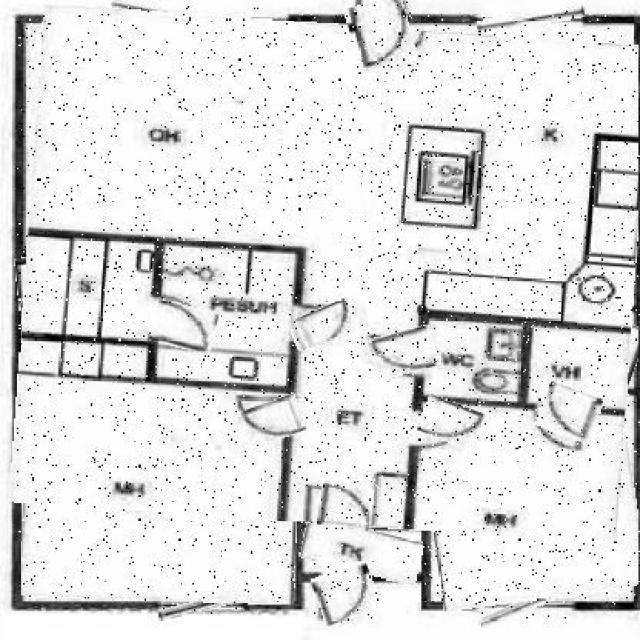door: (17, 14, 640, 532), (22, 392, 298, 603), (421, 383, 640, 604), (18, 248, 162, 394), (156, 249, 298, 397), (527, 301, 640, 395), (431, 309, 526, 391), (300, 523, 422, 579)
window: (348, 0, 412, 69), (314, 565, 378, 623), (538, 385, 600, 440), (152, 303, 217, 351), (372, 328, 436, 375), (289, 302, 357, 346), (242, 397, 304, 445), (420, 399, 482, 446), (318, 485, 374, 529)
zone: (110, 6, 288, 34), (478, 591, 568, 620), (477, 9, 585, 28), (157, 596, 238, 616)
